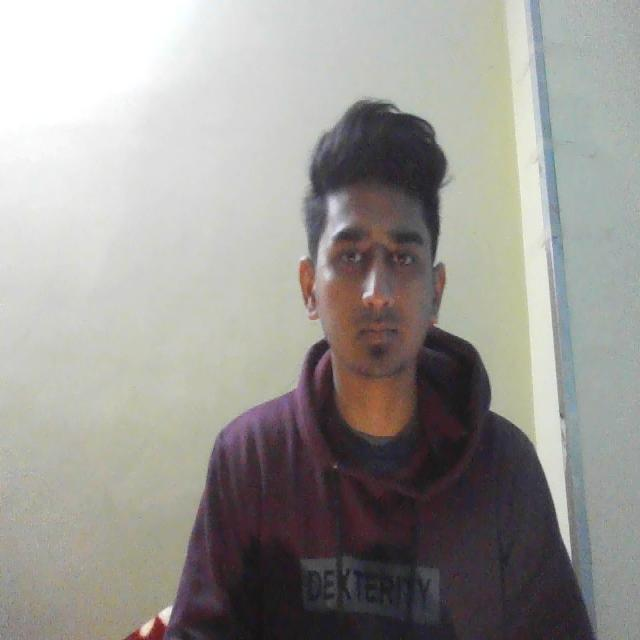real: (300, 121, 448, 402)
